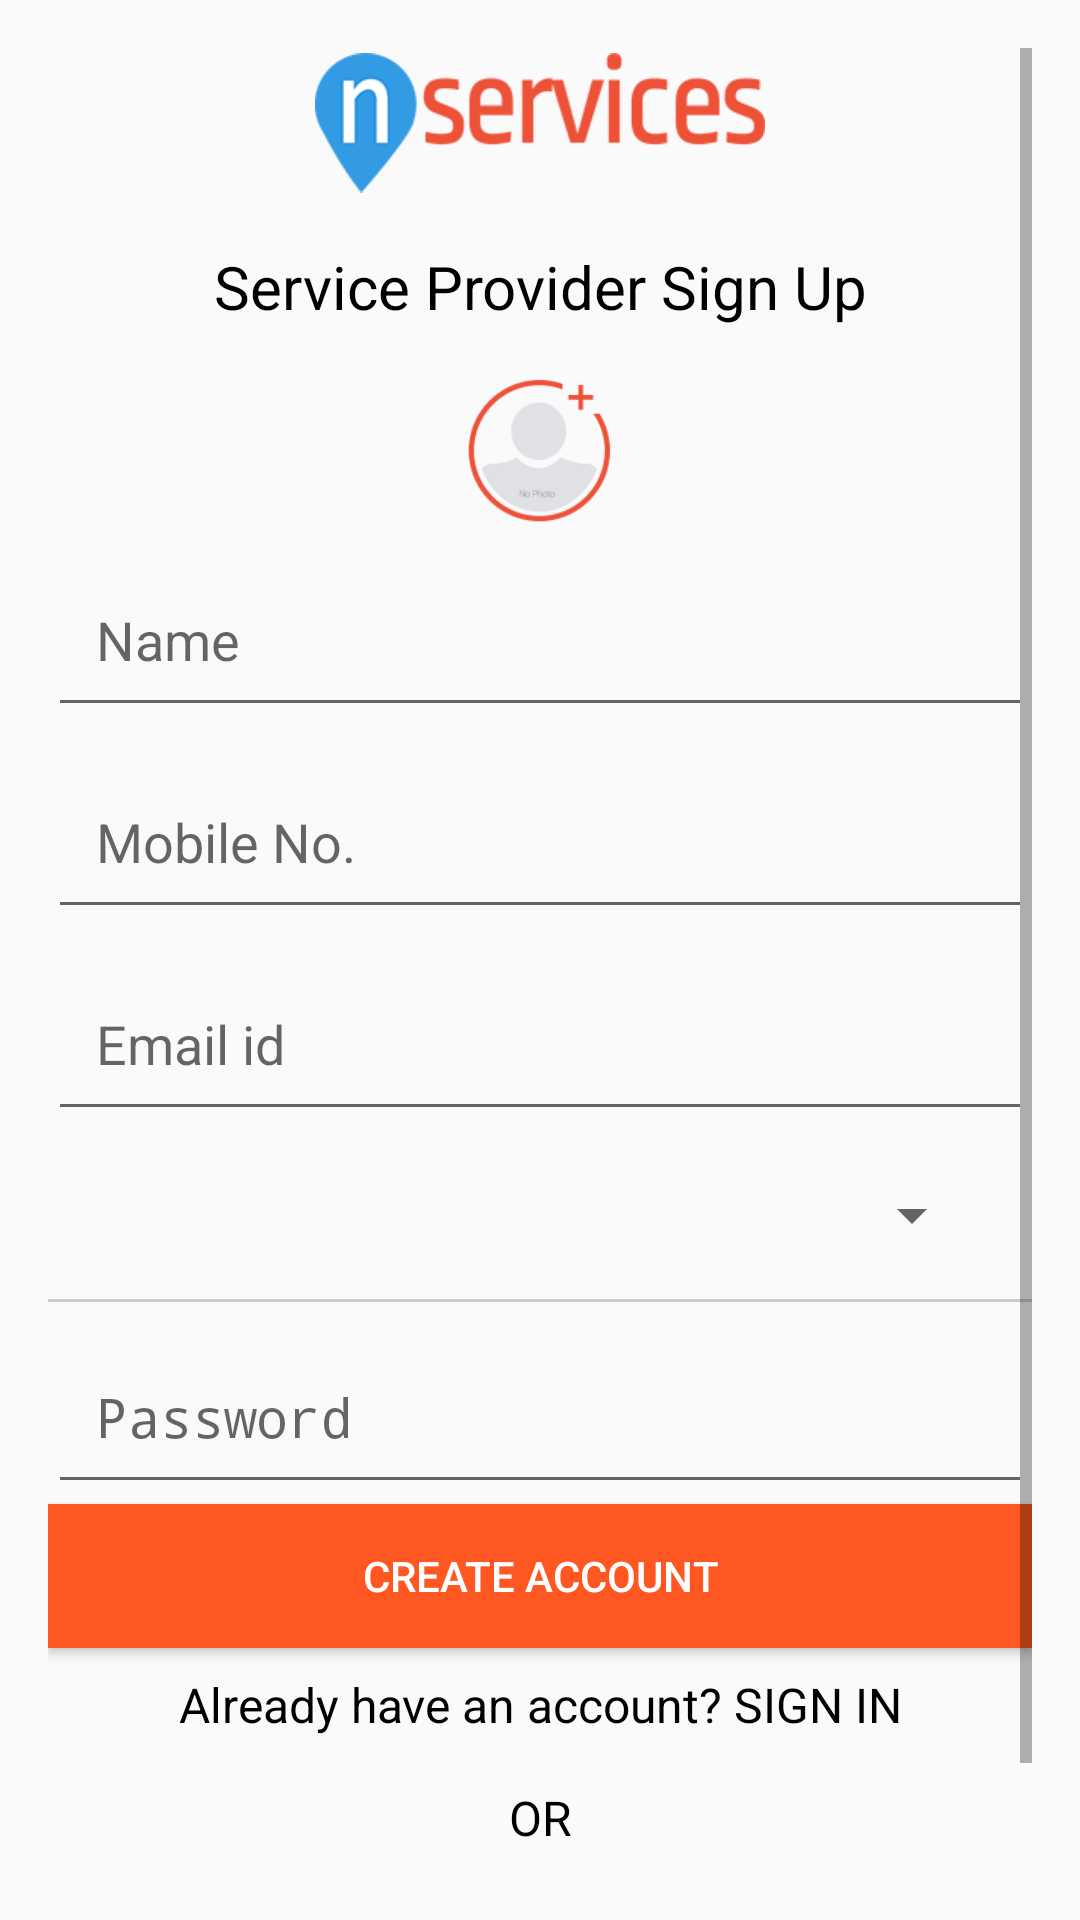

Icons on this 1080x1920 Android screen, each with its box as [x1,y1,x2,y2]:
user photo register: [468,380,610,522]
